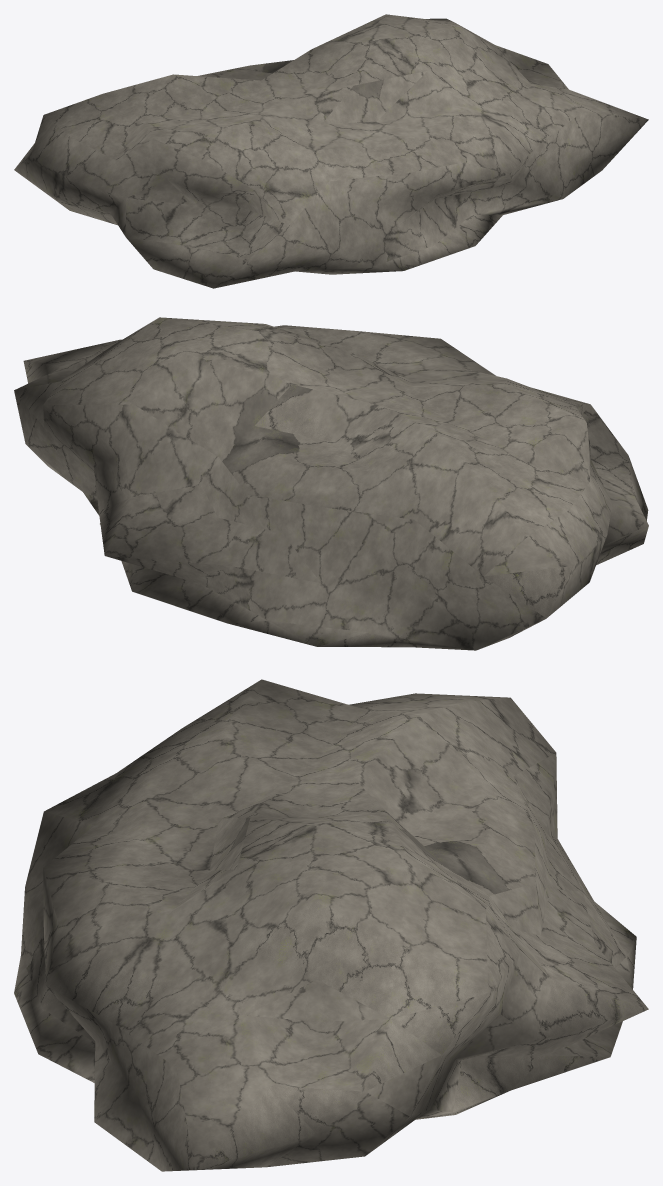
The model's file is rock_c.glb.
3 views of the same model, one above another, from view 1: azimuth 30°, elevation 25°; view 2: azimuth 150°, elevation 25°; view 3: azimuth 270°, elevation 25° (orthographic). The views are drawn at different scales.
Visible parts, largest first — view 1: rock_c; view 2: rock_c; view 3: rock_c.
Boxes of the visible parts, x1,y1,x2,y2 form: rock_c: (14, 14, 648, 288); rock_c: (14, 317, 648, 650); rock_c: (14, 679, 648, 1171).
Bounding box in the file's own units: 4.41 × 1.14 × 2.91.
Materials: 1 (1 with a texture image).
